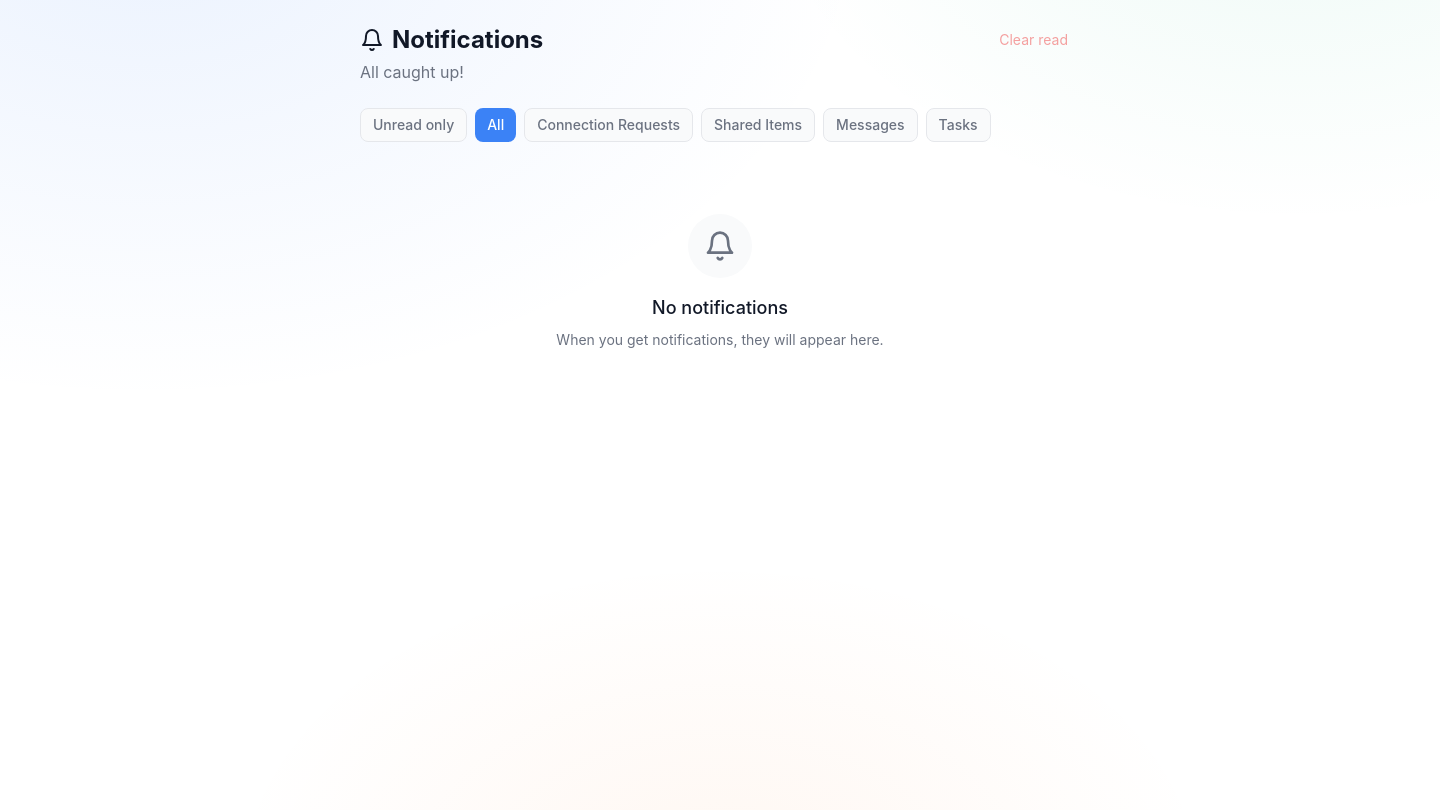
Test case: NotificationsPage › Empty State › shows different empty state message when filtering unread only
// Click the "Unread only" filter
Step 1. Click the button "Unread only" → (414, 125), box [360,108,467,142]
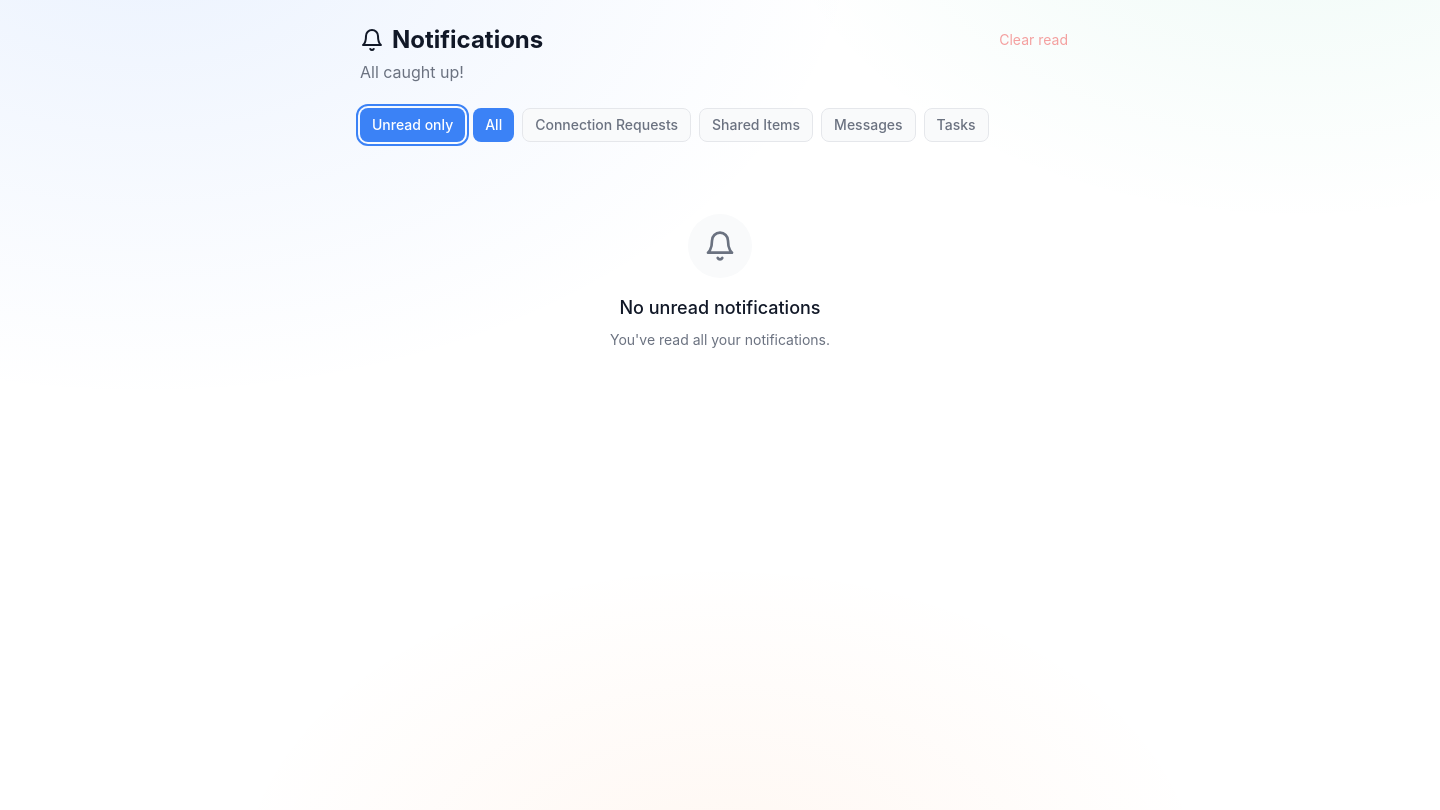
Check: the heading "No unread notifications" is shown, box [620,294,821,322]
Check: the text "You've read all your notifications." is shown, box [610,330,830,350]
